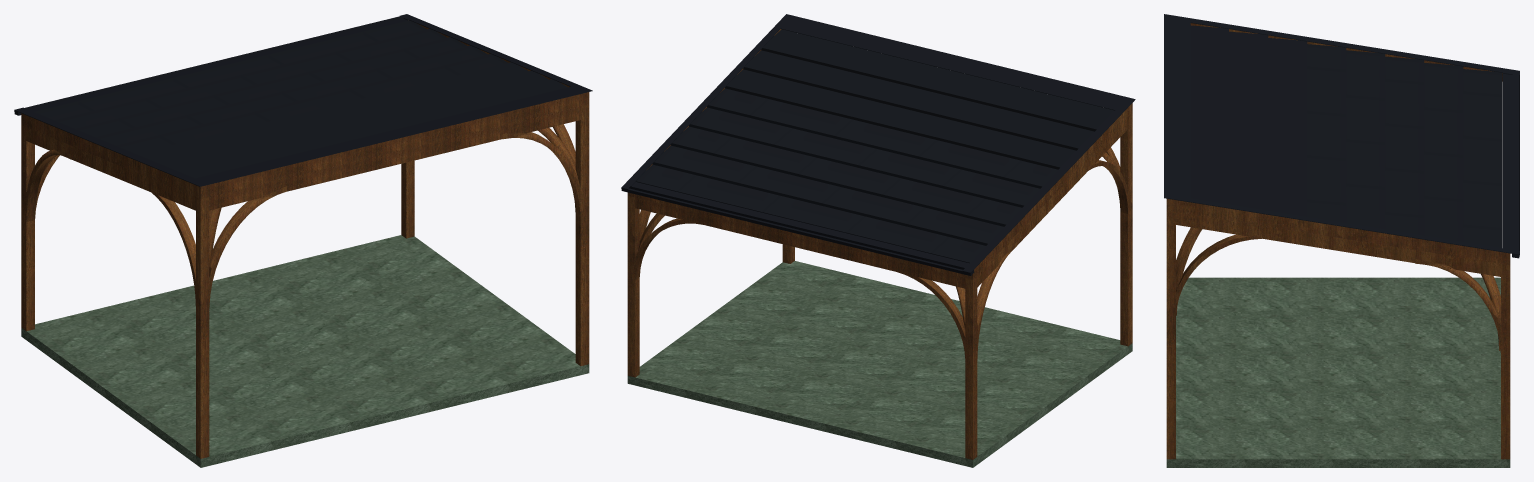
3 views of the same model, side by side, from view 1: azimuth 30°, elevation 25°; view 2: azimuth 150°, elevation 25°; view 3: azimuth 270°, elevation 25° (orthographic). The views are drawn at different scales.
Visible parts, largest first — view 1: Group1, Group20, Group112, Group117, beam_1_1, Group113, Group115, Group64, Group76, Group66, Group68, Group100 (+35 smaller); view 2: Group1, Group20, Group112, beam_1_2, Group113, Group29, Group28, Group30, Group22, Group76, Group78, Group95 (+35 smaller); view 3: Group1, Group20, Group113, Group116, Group60, Group61, Group64, Group76, Group94, Group95, Group98, Group34 (+33 smaller).
Part boxes in pixels (box(x1,y1,x2,y2)): Group1: box(21, 235, 589, 467); Group20: box(14, 14, 592, 186); Group112: box(21, 125, 209, 458); Group117: box(199, 92, 589, 198); beam_1_1: box(209, 106, 580, 210); Group113: box(401, 104, 589, 366); Group115: box(21, 113, 199, 198); Group64: box(160, 111, 270, 143); Group76: box(119, 94, 229, 126); Group66: box(350, 65, 460, 97); Group68: box(255, 88, 365, 120); Group100: box(268, 31, 378, 63); Group1: box(627, 261, 1132, 467); Group20: box(621, 14, 1135, 275); Group112: box(965, 112, 1132, 459); beam_1_2: box(635, 197, 965, 288); Group113: box(627, 196, 794, 377); Group29: box(845, 50, 950, 91); Group28: box(930, 70, 1034, 111); Group30: box(761, 29, 865, 70); Group22: box(1014, 91, 1114, 131); Group76: box(881, 178, 983, 217); Group78: box(713, 137, 815, 176); Group95: box(737, 166, 839, 205); Group1: box(1166, 277, 1510, 467); Group20: box(1164, 14, 1519, 258); Group113: box(1166, 210, 1510, 459); Group116: box(1167, 199, 1510, 265); Group60: box(1346, 94, 1385, 142); Group61: box(1346, 139, 1385, 186); Group64: box(1307, 66, 1346, 113); Group76: box(1385, 78, 1424, 126); Group94: box(1424, 107, 1463, 154); Group95: box(1424, 151, 1463, 199); Group98: box(1463, 91, 1502, 138); Group34: box(1229, 142, 1268, 190).
Size of the model in its own units: 455 by 313 by 373.
